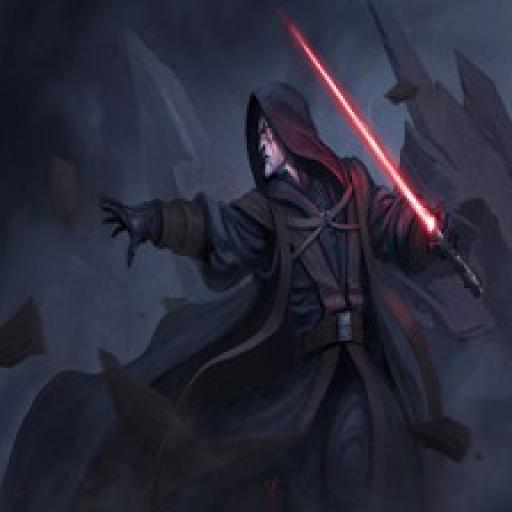lightsaber: (288, 25, 483, 295)
